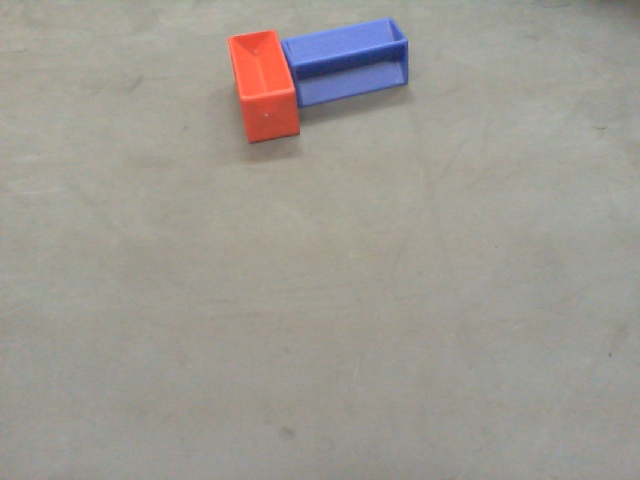BlueSample: (285, 14, 414, 108)
RedSample: (225, 30, 302, 152)
